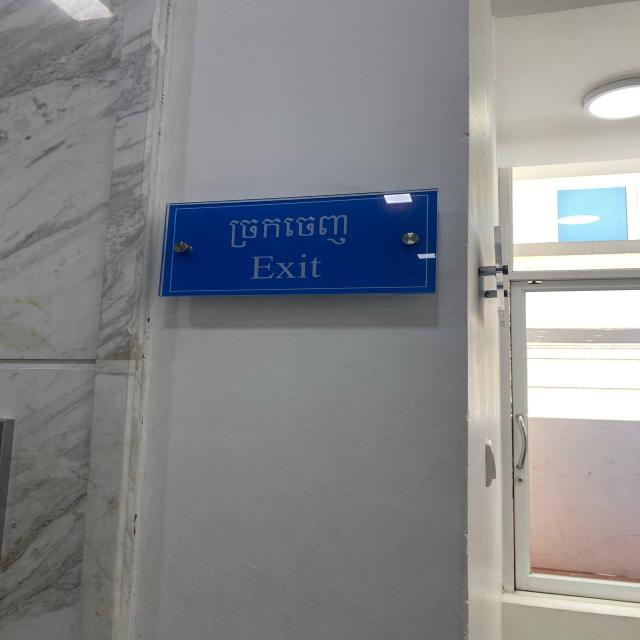Yolov11kh: (219, 204, 359, 253)
